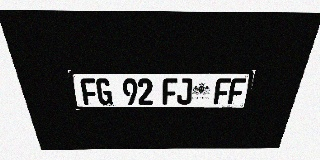2: (137, 78, 153, 105)
9: (122, 78, 138, 105)
F: (80, 78, 99, 105), (227, 78, 246, 104), (213, 78, 231, 105), (163, 78, 178, 105)
G: (95, 78, 113, 105)
J: (177, 78, 193, 105)
